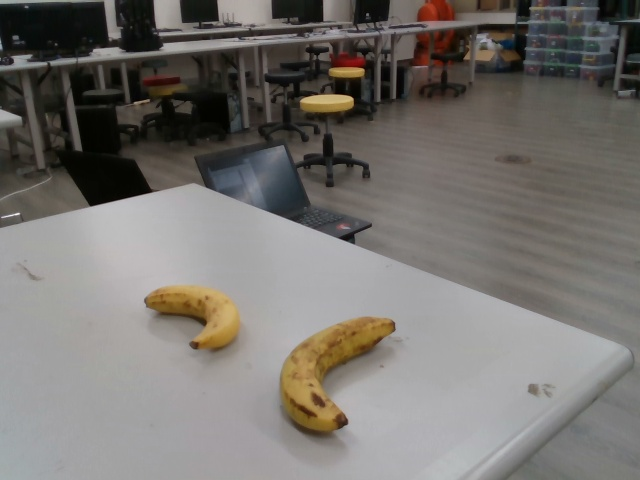banana: (276, 314, 398, 435), (145, 283, 241, 351)
